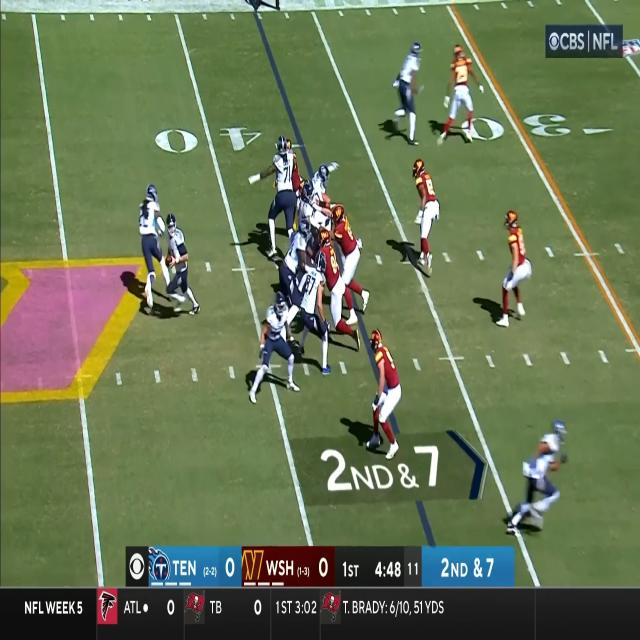football: (165, 255, 172, 269)
players: (508, 419, 572, 535), (315, 231, 364, 348), (251, 292, 301, 405), (251, 136, 295, 255), (366, 329, 404, 459), (437, 46, 485, 144), (297, 252, 333, 377), (329, 207, 371, 313), (138, 185, 172, 313), (495, 211, 531, 327), (163, 214, 202, 315), (392, 41, 427, 147), (412, 160, 440, 276), (280, 220, 314, 295), (298, 182, 334, 242)
